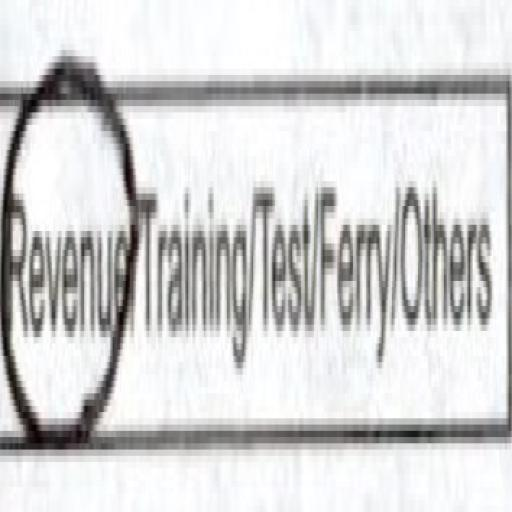check: (2, 0, 138, 512)
